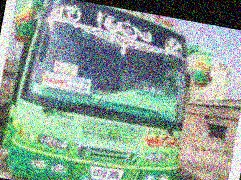bus: (0, 0, 218, 180)
